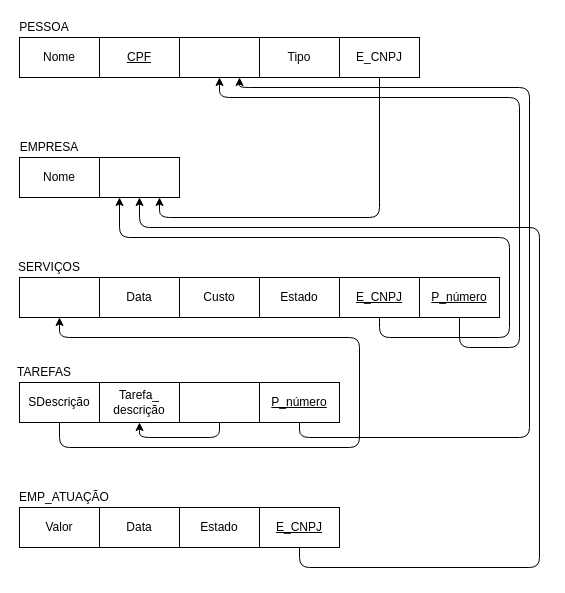
Some shapes in this 565 by 593 pixel diagram are drawn without their labels. The centre of each missing label's shape, as x and y in pixels:
"CNPJ" belongs at (x=139, y=177).
"Descrição" belongs at (x=59, y=297).
"Número" belongs at (x=219, y=57).
"Sub_ Descrição" belongs at (x=219, y=402).
